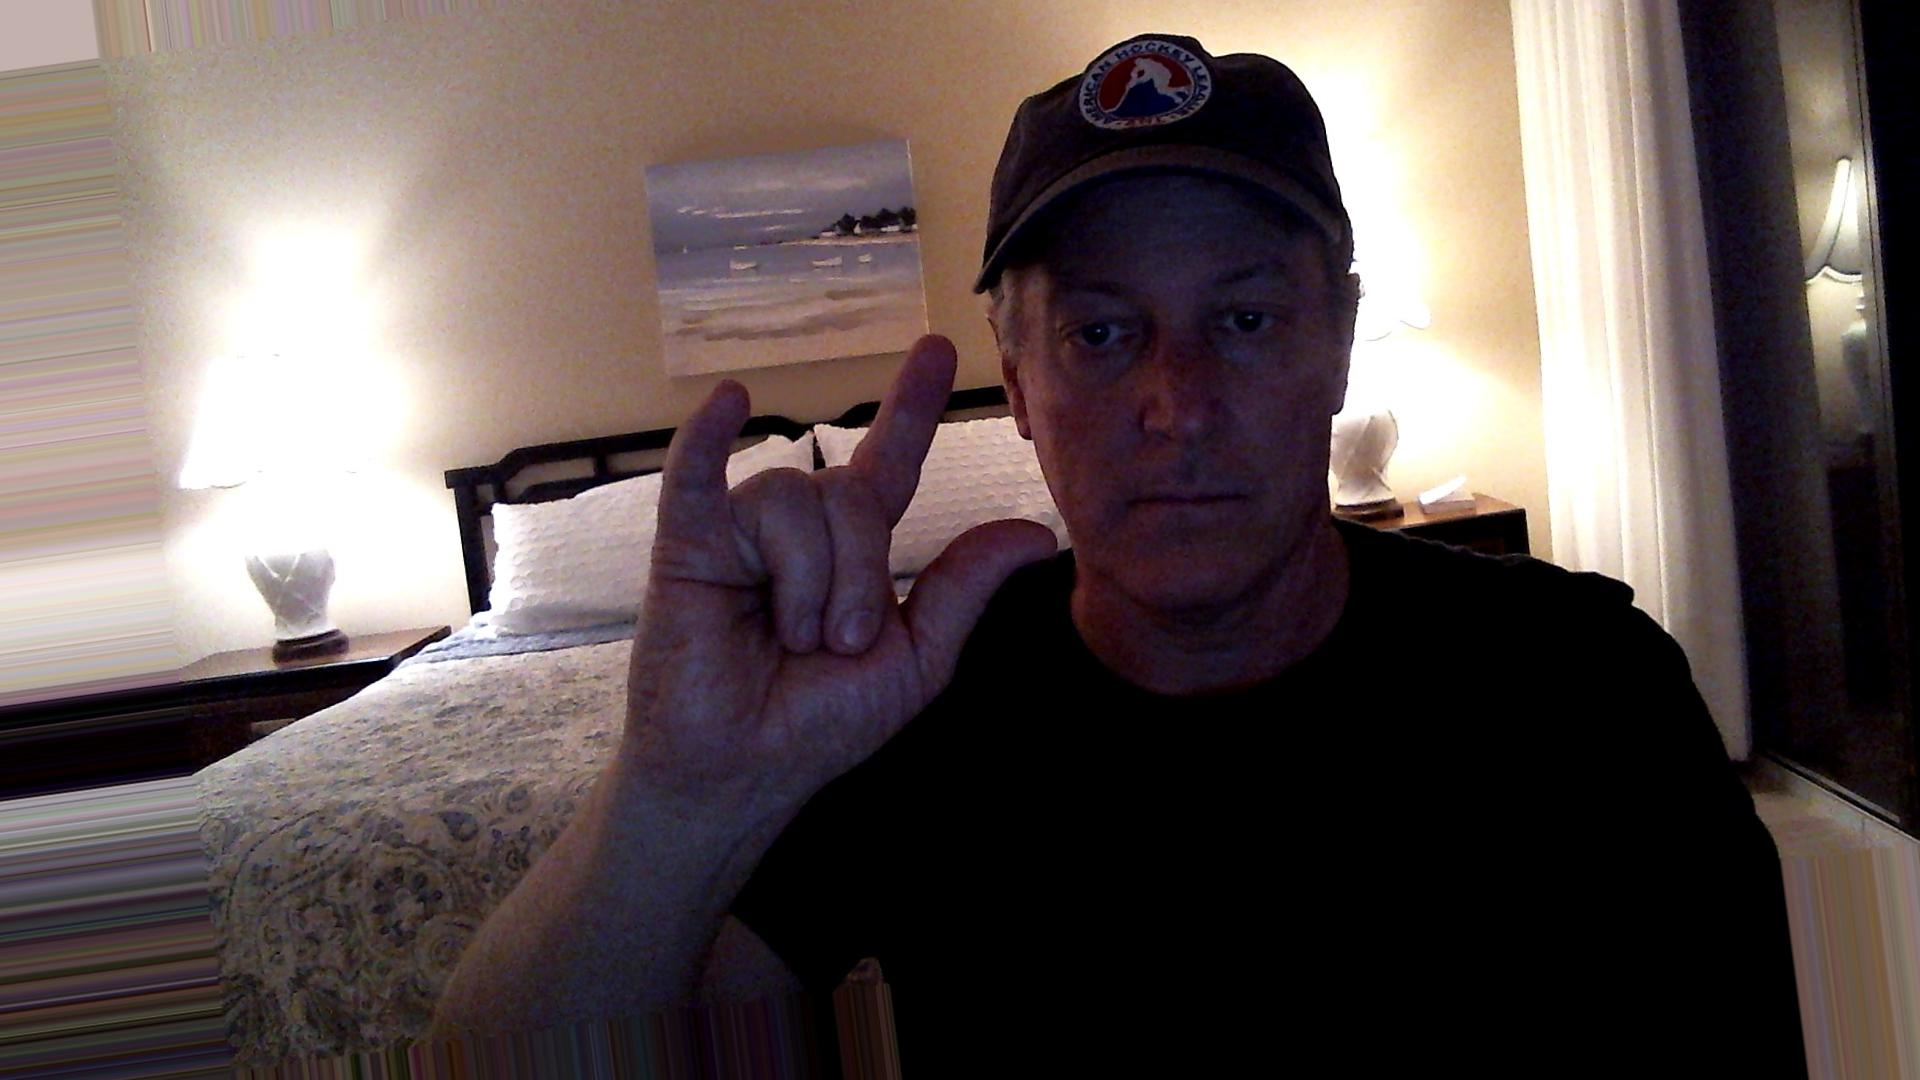I Love You: (597, 323, 1072, 778)
